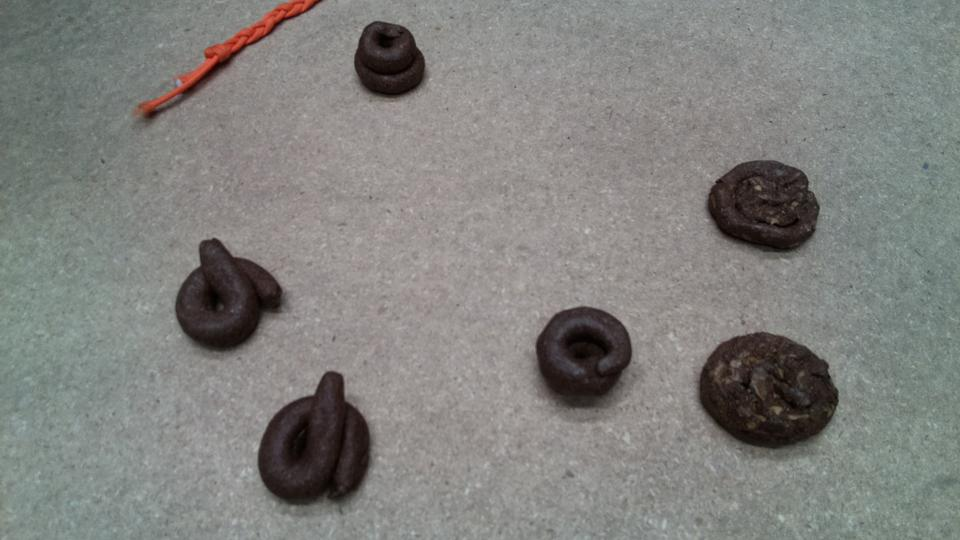poop: (697, 329, 841, 454), (255, 367, 374, 508), (173, 236, 289, 355), (705, 156, 825, 256), (533, 304, 637, 406), (350, 18, 429, 101)
rope: (136, 1, 317, 116)
